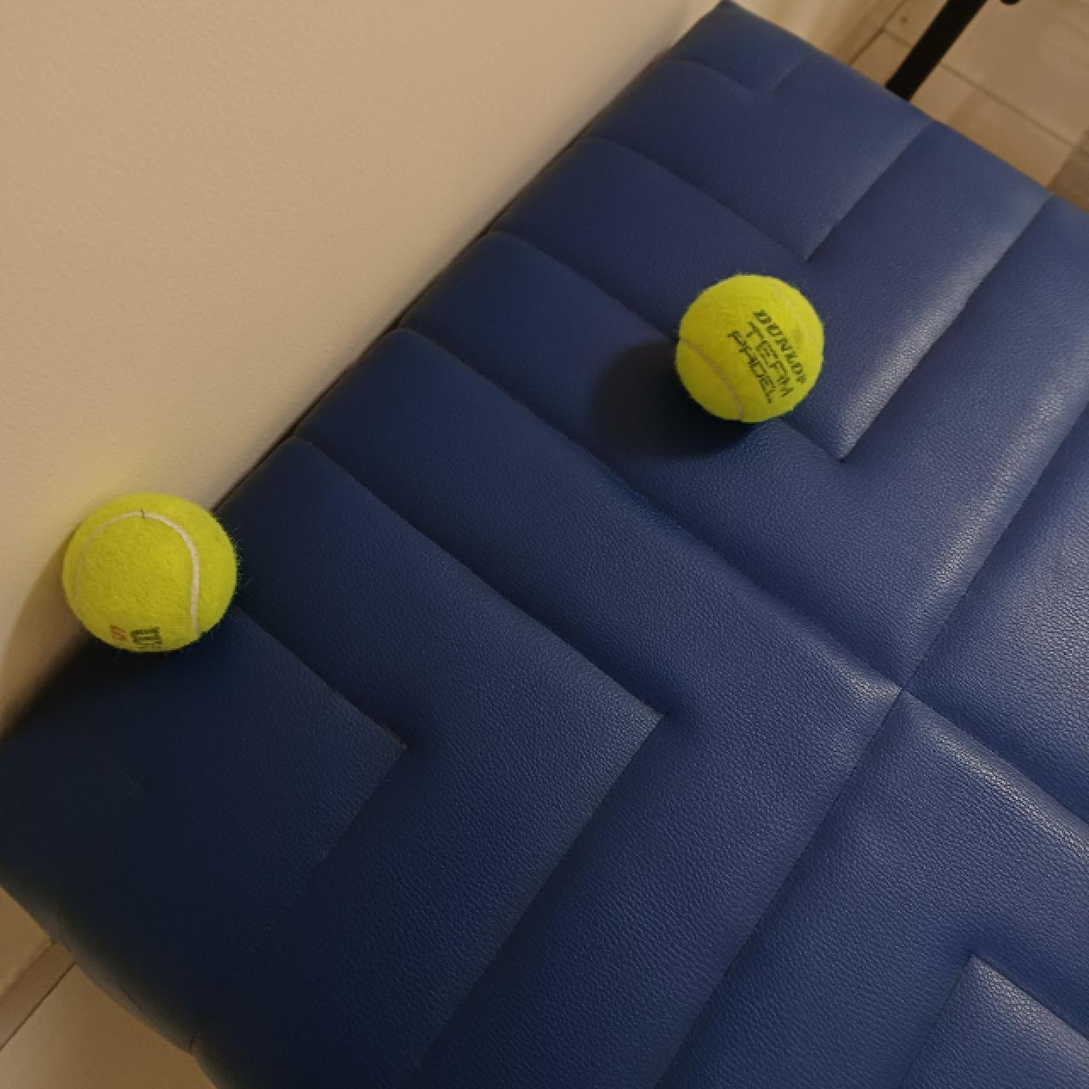tennis-ball: (53, 487, 248, 659), (668, 272, 835, 425)
